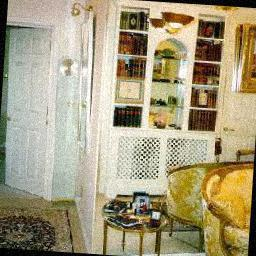Puerta: (0, 28, 55, 195)
